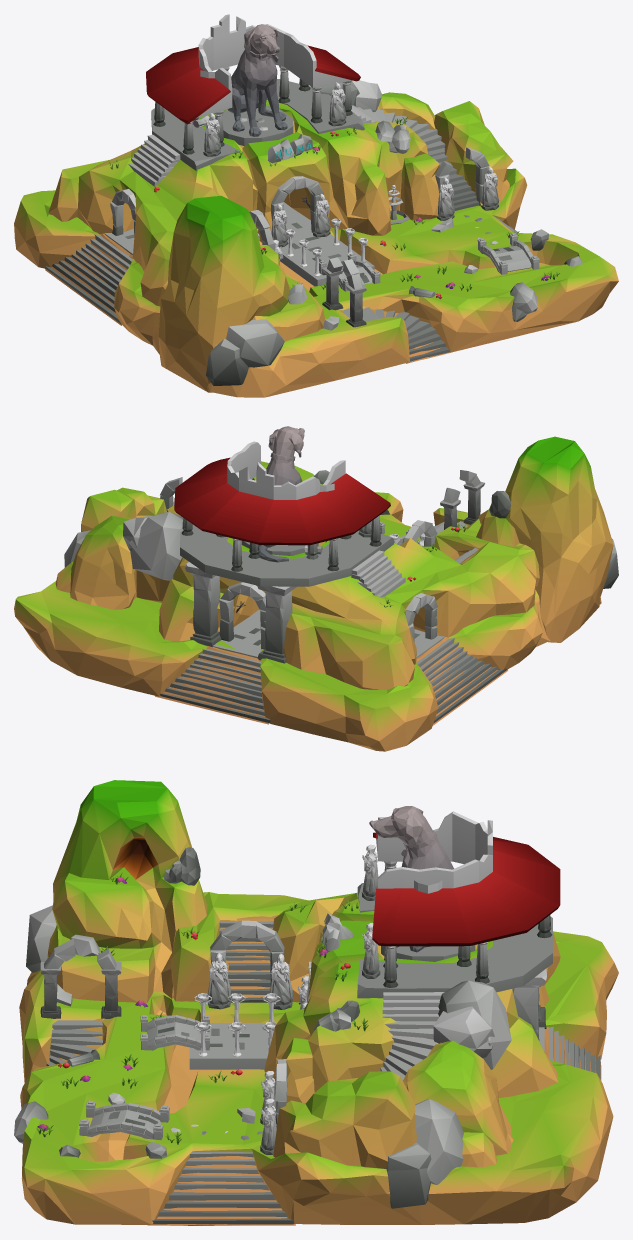
3 renders of one model, top to bottom at view 1: azimuth 30°, elevation 25°; view 2: azimuth 150°, elevation 25°; view 3: azimuth 270°, elevation 25°, orthographic. The views are drawn at different scales.
Visible parts, largest first — view 1: Cube.027, Cube.026, Cube.036, Plane.012, Plane.022, Plane.005, Cube.029, Plane.013, Cube.040, rock_004.002, rock_004.004, Plane.020 (+17 smaller); view 2: Cube.027, Cube.026, Plane.012, Cube.036, Plane.022, Cube.028, rock_004.014, Cube.029, Cube.039, ColumnD.001, Plane.005, ColumnD (+9 smaller); view 3: Cube.027, Plane.012, Cube.036, Cube.026, Plane.022, Cube.029, Cube.028, rock_004.012, Plane.005, Plane.013, rock_004.014, Plane.020 (+20 smaller).
Part boxes in pixels (box(x1,y1,x2,y2)): Cube.027: box(14, 168, 618, 397); Cube.026: box(48, 100, 428, 306); Cube.036: box(158, 195, 324, 392); Plane.012: box(146, 14, 364, 170); Plane.022: box(45, 105, 518, 363); Plane.005: box(227, 24, 287, 136); Cube.029: box(434, 101, 513, 206); Plane.013: box(104, 202, 374, 286); Cube.040: box(400, 153, 439, 220); rock_004.002: box(226, 319, 284, 367); rock_004.004: box(206, 339, 248, 385); Plane.020: box(477, 233, 539, 274); Cube.027: box(14, 461, 601, 751); Cube.026: box(136, 505, 539, 689); Plane.012: box(174, 441, 393, 586); Cube.036: box(466, 436, 613, 642); Plane.022: box(160, 515, 507, 723); Cube.028: box(55, 516, 136, 609); rock_004.014: box(129, 511, 183, 580); Cube.029: box(81, 487, 166, 531); Cube.039: box(155, 645, 269, 724); ColumnD.001: box(185, 562, 221, 647); Plane.005: box(258, 426, 304, 562); ColumnD: box(257, 585, 296, 663); Cube.027: box(19, 931, 618, 1224); Plane.012: box(357, 811, 560, 998); Cube.036: box(47, 780, 207, 1002); Cube.026: box(170, 892, 560, 1097); Plane.022: box(46, 921, 600, 1224); Cube.029: box(273, 1071, 416, 1168); Cube.028: box(402, 1040, 513, 1167); rock_004.012: box(415, 1099, 463, 1184); Plane.005: box(369, 806, 453, 952); Plane.013: box(189, 1023, 544, 1069); rock_004.014: box(438, 980, 511, 1069); Plane.020: box(79, 1100, 169, 1140).
Size of the model in its own units: 32.67 by 17 by 31.47.
Materials: 2 (2 with a texture image).
